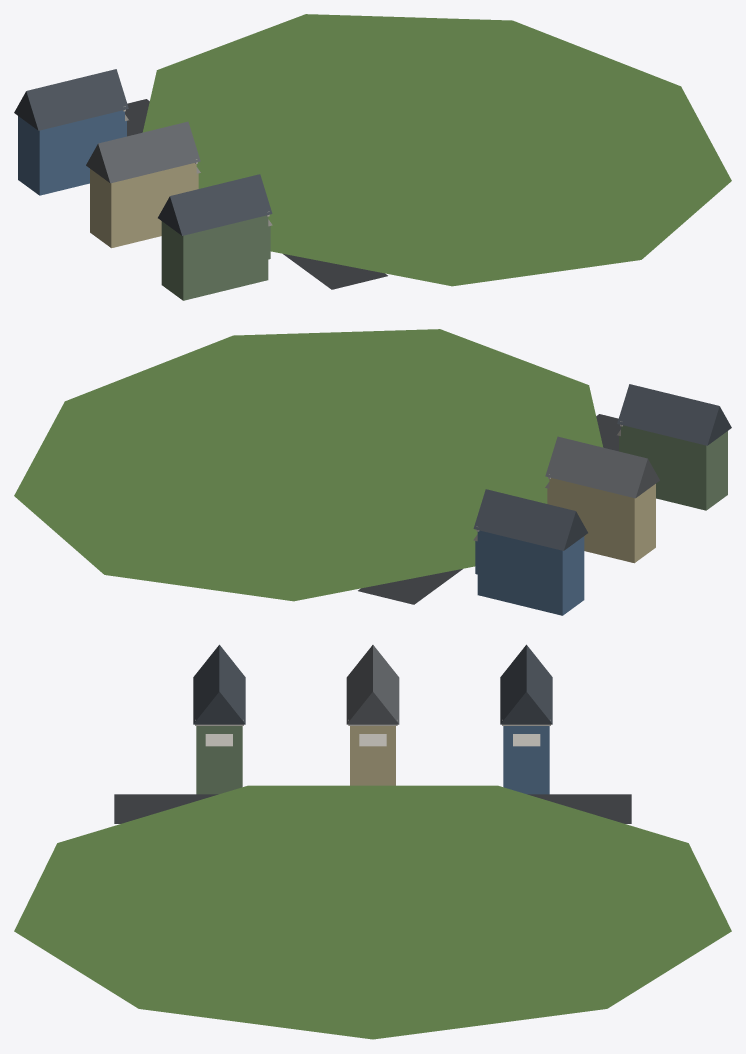
File: mobile-low.glb
The picture shows the model from 3 angles, top to bottom: view 1: azimuth 30°, elevation 25°; view 2: azimuth 150°, elevation 25°; view 3: azimuth 270°, elevation 25°; orthographic projection. The views are drawn at different scales.
Parts seen in each view (by area): view 1: lm.painted-ladies; view 2: lm.painted-ladies; view 3: lm.painted-ladies.
Part boxes in pixels (x1=…): lm.painted-ladies: x1=14, y1=14, x2=731, y2=300; lm.painted-ladies: x1=14, y1=329, x2=731, y2=615; lm.painted-ladies: x1=14, y1=644, x2=731, y2=1039.
Bounding box in the file's own units: 103 × 16.4 × 102.
